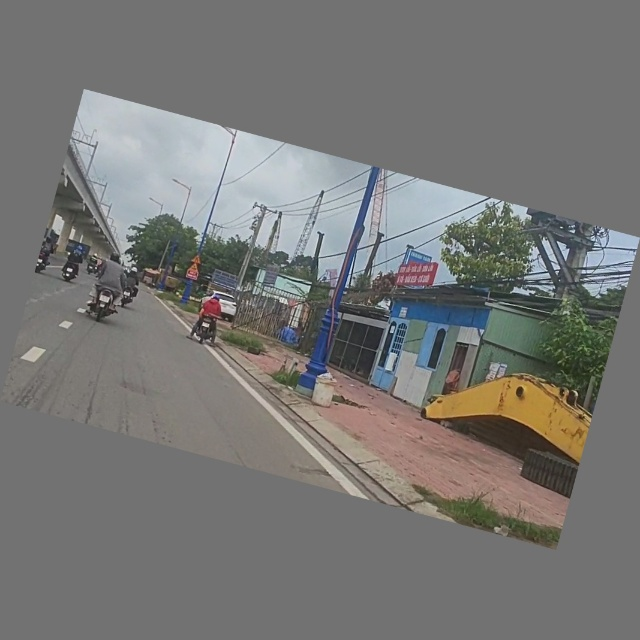W.203c: (191, 254, 204, 265)
W.245a: (188, 263, 201, 272)
